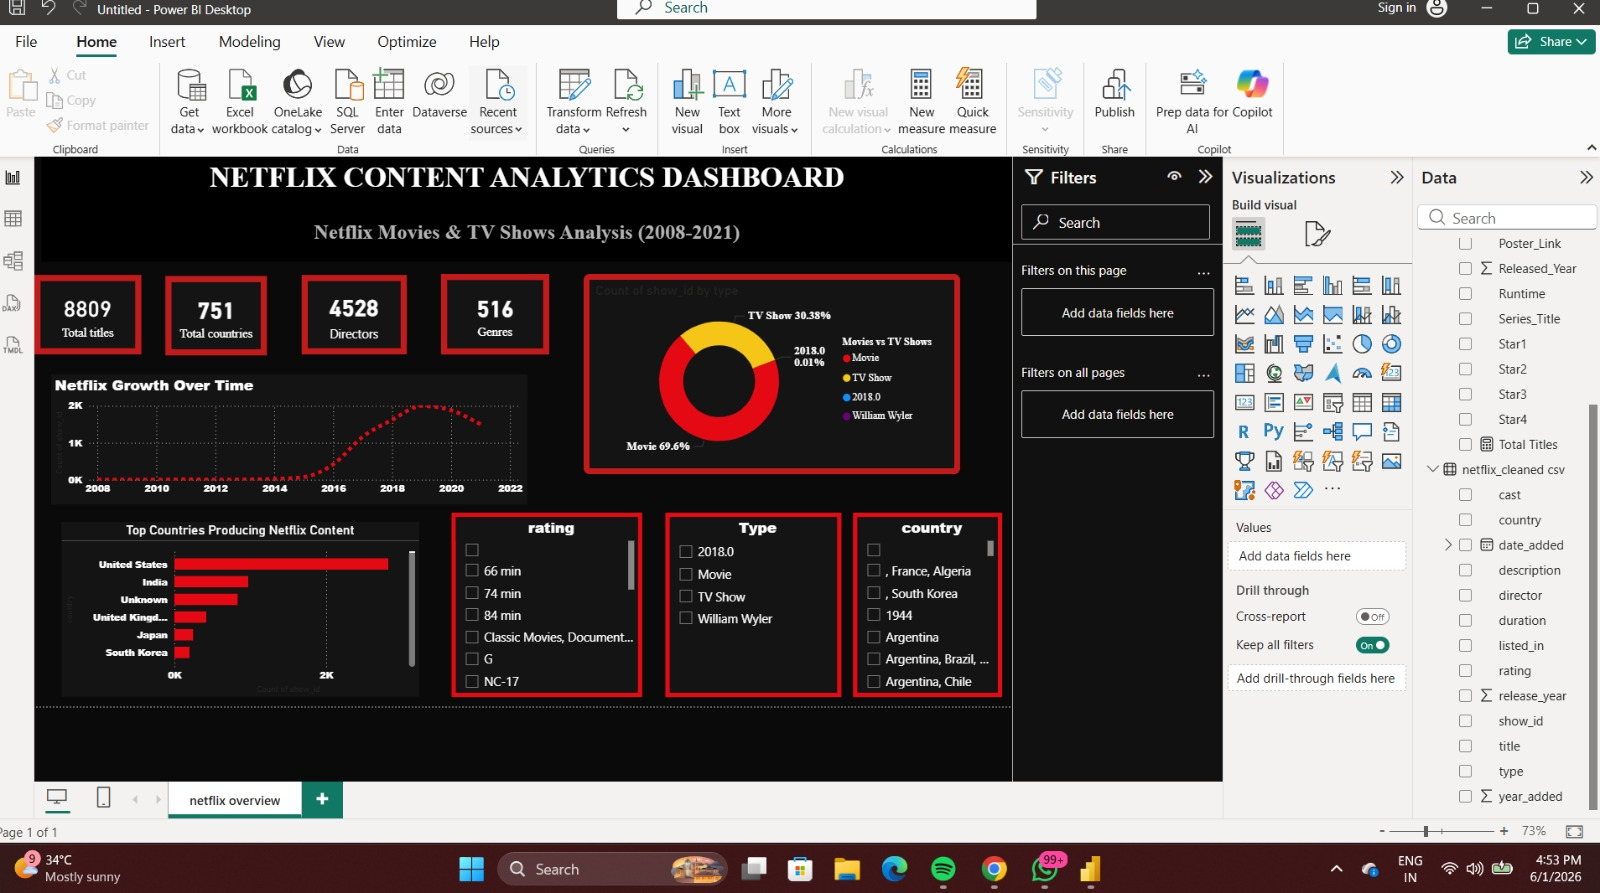

This screenshot's page, from the dashboard's own definition file:
{"tool":"powerbi","page":{"name":"netflix overview","canvas":[1280,720],"ordinal":0},"visuals":[{"type":"textbox","box":[9.6,0,1270.7,137.2],"z":0},{"type":"donutChart","fields":{"Category":["netflix_cleaned csv.type"],"Y":["Count(netflix_cleaned csv.show_id)"]},"box":[746.9,153.9,493.2,262.3],"z":1000},{"type":"clusteredBarChart","title":"Top Countries Producing Netflix Content","fields":{"Category":["netflix_cleaned csv.country"],"Y":["CountNonNull(netflix_cleaned csv.show_id)"]},"box":[35.7,478.9,467.9,229.2],"z":2000},{"type":"lineChart","title":"Netflix Growth Over Time","fields":{"Y":["CountNonNull(netflix_cleaned csv.show_id)"],"Category":["netflix_cleaned csv.year_added"]},"box":[35.6,259.4,640,201],"z":3000},{"type":"slicer","title":"rating","fields":{"Values":["netflix_cleaned csv.rating"]},"box":[581.6,477.5,219.5,229.5],"z":4000},{"type":"slicer","title":"Type","fields":{"Values":["netflix_cleaned csv.type"]},"box":[1073.3,480.4,186.7,226.6],"z":5000},{"type":"slicer","title":"country","fields":{"Values":["netflix_cleaned csv.country"]},"box":[848.1,477.5,192.4,229.5],"z":6000},{"type":"card","fields":{"Values":["netflix_cleaned csv.Titles Count"]},"box":[35.6,136.8,121.2,102.6],"z":7000},{"type":"card","fields":{"Values":["netflix_cleaned csv.Countries Count"]},"box":[181,136.8,155.4,102.6],"z":8000},{"type":"card","fields":{"Values":["netflix_cleaned csv.Total Directors"]},"box":[364.9,136.8,159.6,102.6],"z":9000},{"type":"card","fields":{"Values":["netflix_cleaned csv.Total Genres"]},"box":[551.6,136.8,153.9,102.6],"z":10000},{"type":"image","box":[0,0,246.6,116.9],"z":11000}]}

Visuals, with their boxes on the page's 1280x720 design canvas (x1, y1, x2, y2). These are canvas units, not pixel positions in the 1600x893 screenshot, which may show the page scaled, cropped or inside an application window:
textbox: (10,0,1280,137)
donutChart - netflix_cleaned csv.type x Count(netflix_cleaned csv.show_id): (747,154,1240,416)
"Top Countries Producing Netflix Content" clusteredBarChart: (36,479,504,708)
"Netflix Growth Over Time" lineChart: (36,259,676,460)
"rating" slicer: (582,478,801,707)
"Type" slicer: (1073,480,1260,707)
"country" slicer: (848,478,1040,707)
card - netflix_cleaned csv.Titles Count: (36,137,157,239)
card - netflix_cleaned csv.Countries Count: (181,137,336,239)
card - netflix_cleaned csv.Total Directors: (365,137,524,239)
card - netflix_cleaned csv.Total Genres: (552,137,706,239)
image: (0,0,247,117)
